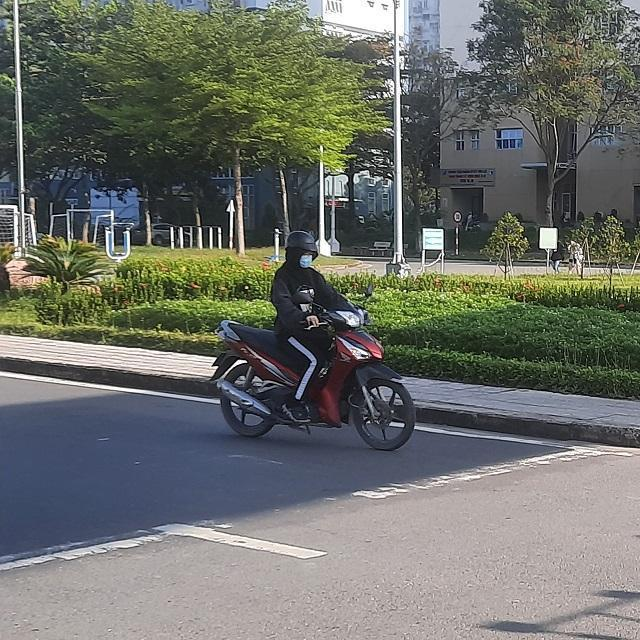Helmet: (283, 229, 321, 267)
